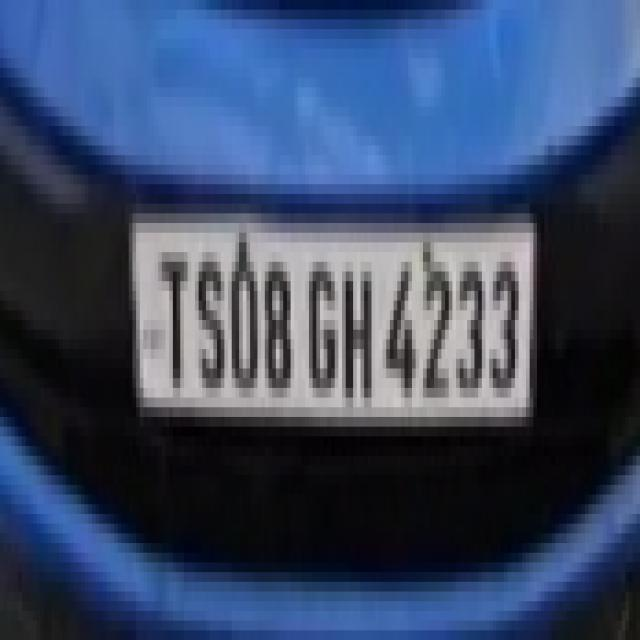0: (228, 241, 260, 402)
3: (486, 249, 522, 396), (454, 260, 486, 398)
4: (382, 248, 420, 413)
8: (261, 254, 299, 403)
G: (302, 234, 341, 399)
H: (342, 251, 377, 412)
S: (194, 239, 228, 403)
T: (156, 244, 192, 394)
